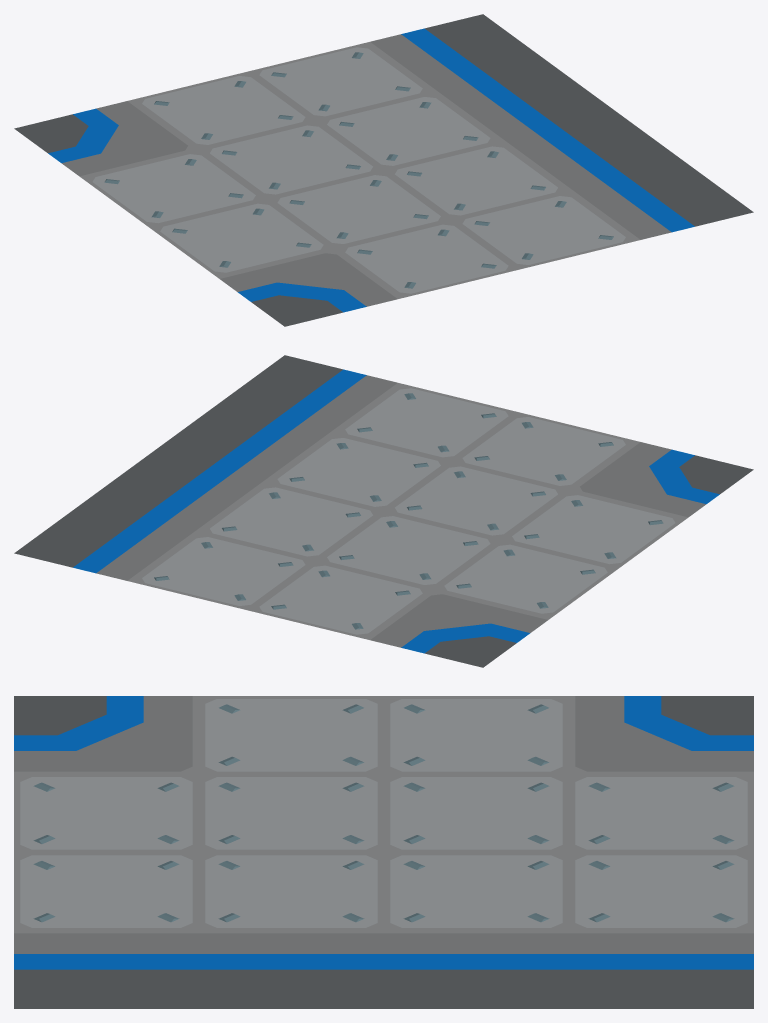
The model's file is Floor_type_B_001.fbx.
3 renders of one model, top to bottom at view 1: azimuth 30°, elevation 25°; view 2: azimuth 150°, elevation 25°; view 3: azimuth 270°, elevation 25°, orthographic. The views are drawn at different scales.
Visible parts, largest first — view 1: Floor_type_B_001; view 2: Floor_type_B_001; view 3: Floor_type_B_001.
Boxes of the visible parts, bbox=[...] form: Floor_type_B_001: bbox=[14, 14, 753, 326]; Floor_type_B_001: bbox=[14, 355, 753, 667]; Floor_type_B_001: bbox=[14, 696, 753, 1008].
Size of the model in its own units: 400 by 400 by 0.8.
